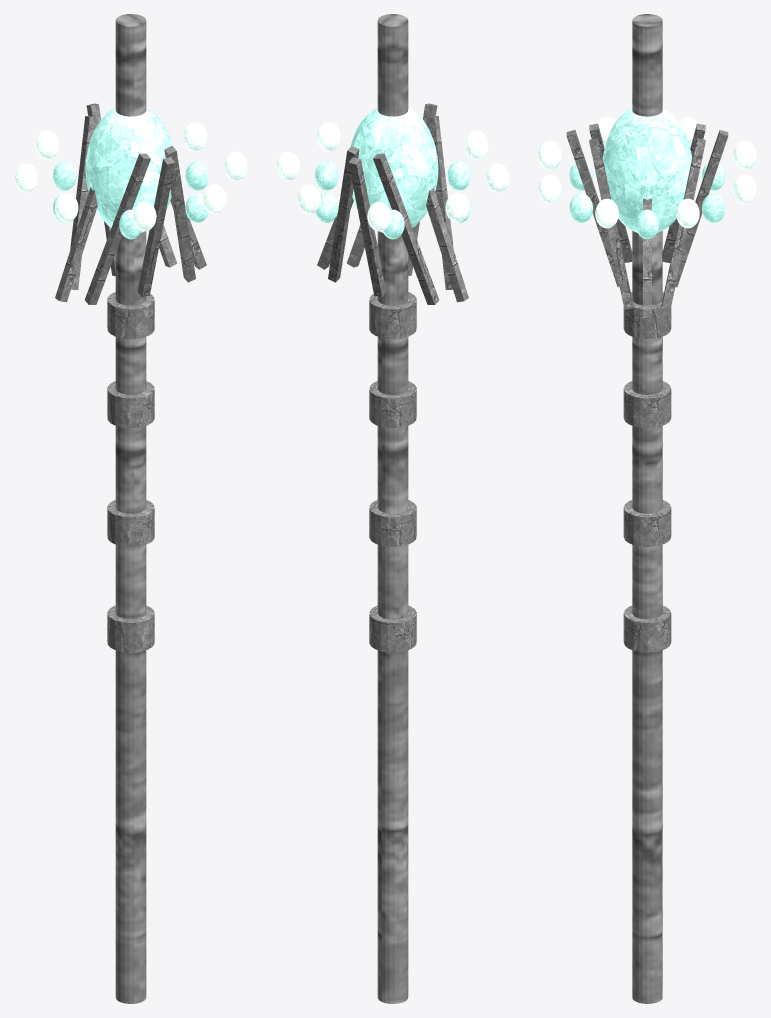
The model's file is staff-spirit-master.glb.
3 views of the same model, side by side, from view 1: azimuth 30°, elevation 25°; view 2: azimuth 150°, elevation 25°; view 3: azimuth 270°, elevation 25° (orthographic).
Visible parts, largest first — view 1: shaft, reliquary, reliquary-rib-3, reliquary-rib-2, band--0.44, band--0.12, band-0.24, band-0.51, reliquary-rib-1, reliquary-rib-4, reliquary-rib-5, echo-1-2 (+8 smaller); view 2: shaft, reliquary, reliquary-rib-5, reliquary-rib-6, band--0.44, band--0.12, band-0.24, band-0.51, reliquary-rib-7, reliquary-rib-4, reliquary-rib-3, echo-1-5 (+8 smaller); view 3: shaft, reliquary, band--0.44, band--0.12, band-0.24, reliquary-rib-1, reliquary-rib-7, band-0.51, reliquary-rib-2, reliquary-rib-6, reliquary-rib-0, reliquary-rib-3 (+10 smaller).
Part boxes in pixels (x1,y1,x2,y2): shaft: (115,14,146,1003); reliquary: (85,107,173,232); reliquary-rib-3: (84,153,150,304); reliquary-rib-2: (137,157,175,297); band--0.44: (107,605,154,652); band--0.12: (107,500,154,546); band-0.24: (107,381,154,427); band-0.51: (107,292,154,338); reliquary-rib-1: (164,146,195,282); reliquary-rib-4: (55,187,97,302); reliquary-rib-5: (70,116,97,289); echo-1-2: (133,201,156,231); shaft: (377,14,408,1003); reliquary: (350,107,438,232); reliquary-rib-5: (373,153,439,304); reliquary-rib-6: (348,157,386,297); band--0.44: (369,605,416,652); band--0.12: (369,500,416,546); band-0.24: (369,381,416,427); band-0.51: (369,292,416,338); reliquary-rib-7: (328,146,359,282); reliquary-rib-4: (426,187,468,302); reliquary-rib-3: (426,116,453,289); echo-1-5: (367,201,390,231); shaft: (632,14,662,1003); reliquary: (602,108,692,232); band--0.44: (623,605,671,652); band--0.12: (623,500,671,546); band-0.24: (623,381,671,428); reliquary-rib-1: (589,138,633,309); reliquary-rib-7: (661,138,705,309); band-0.51: (623,292,671,338); reliquary-rib-2: (566,130,619,287); reliquary-rib-6: (675,130,728,287); reliquary-rib-0: (643,198,651,317); reliquary-rib-3: (589,123,632,262).
Bounding box in the file's own units: 0.6009 × 2.96 × 0.6009.
4 materials, 4 textured.
